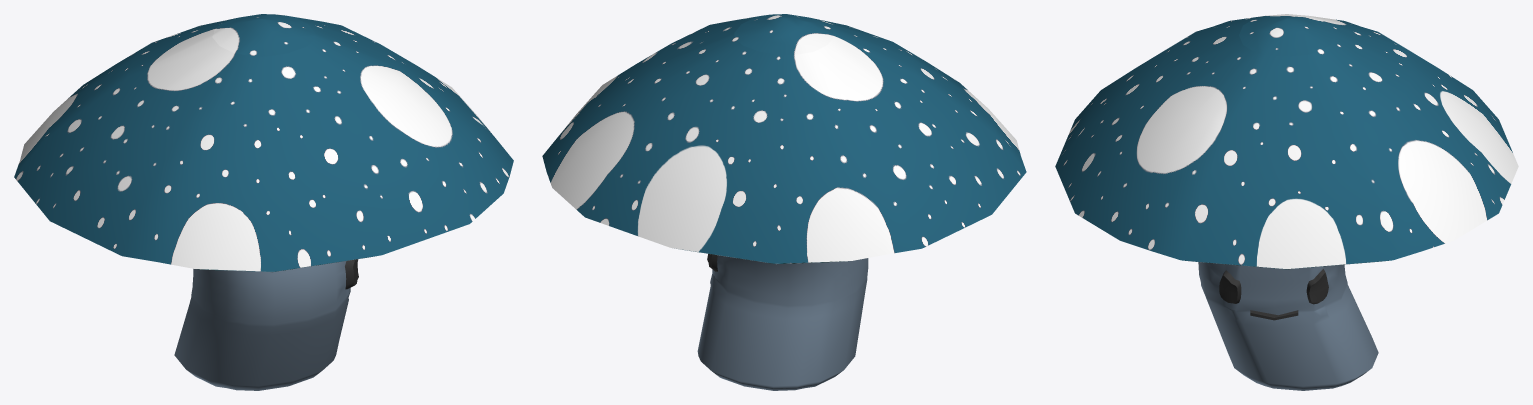
File: mushroomMonster_02_idleBounce.fbx
3 renders of one model, left to right at view 1: azimuth 30°, elevation 25°; view 2: azimuth 150°, elevation 25°; view 3: azimuth 270°, elevation 25°, orthographic. The views are drawn at different scales.
Parts seen in each view (by area): view 1: mushroomBoi02_cap, mushroomBoi_02; view 2: mushroomBoi02_cap, mushroomBoi_02; view 3: mushroomBoi02_cap, mushroomBoi_02.
Boxes of the visible parts, <box> form: mushroomBoi02_cap: <box>14,14,513,271</box>; mushroomBoi_02: <box>174,259,358,390</box>; mushroomBoi02_cap: <box>542,14,1026,263</box>; mushroomBoi_02: <box>697,254,868,390</box>; mushroomBoi02_cap: <box>1055,14,1518,268</box>; mushroomBoi_02: <box>1198,262,1378,390</box>.
Size of the model in its own units: 134 by 106 by 128.
Materials: 4 (2 with a texture image).
